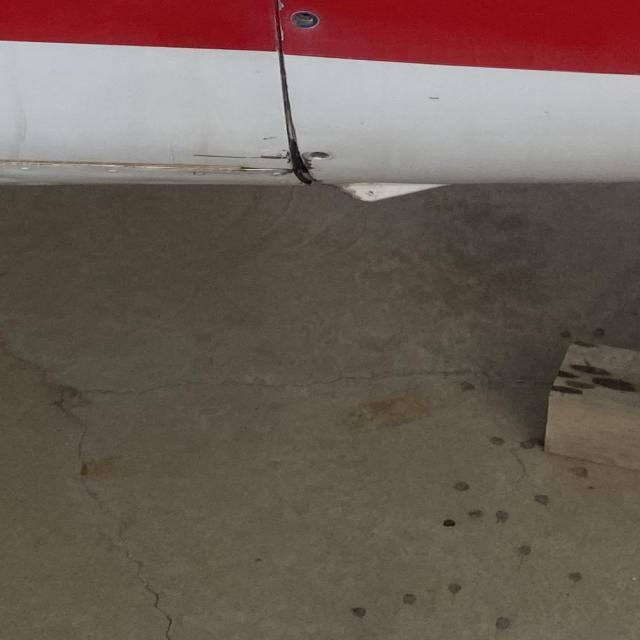Missing-head: (290, 12, 320, 31)
Paint-off: (429, 98, 439, 102)
